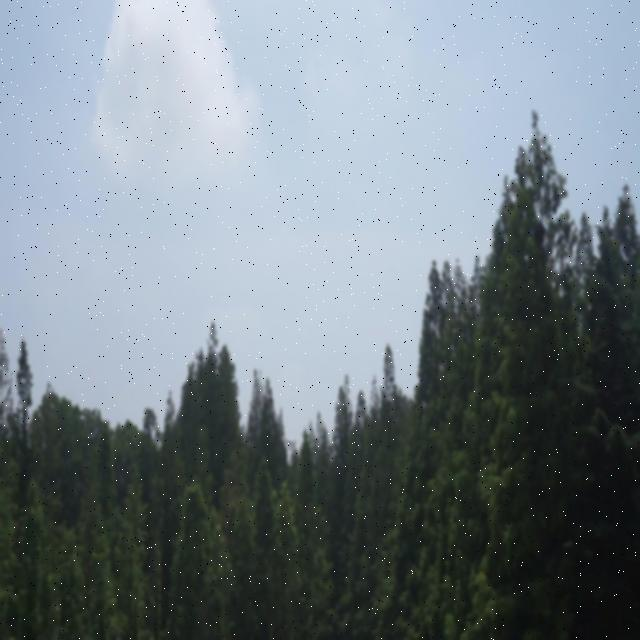UAV: (282, 438, 299, 450)
